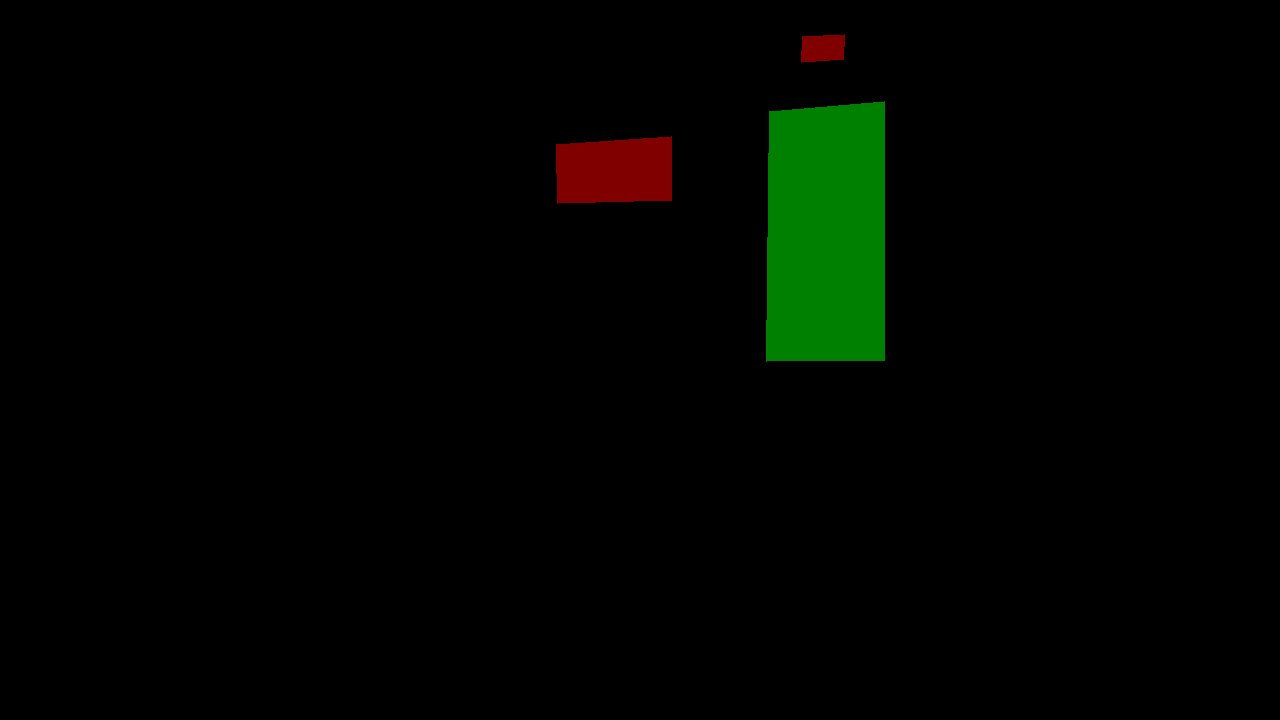door: (766, 101, 884, 361)
sign: (556, 136, 671, 203), (801, 34, 844, 62), (810, 161, 840, 193)
